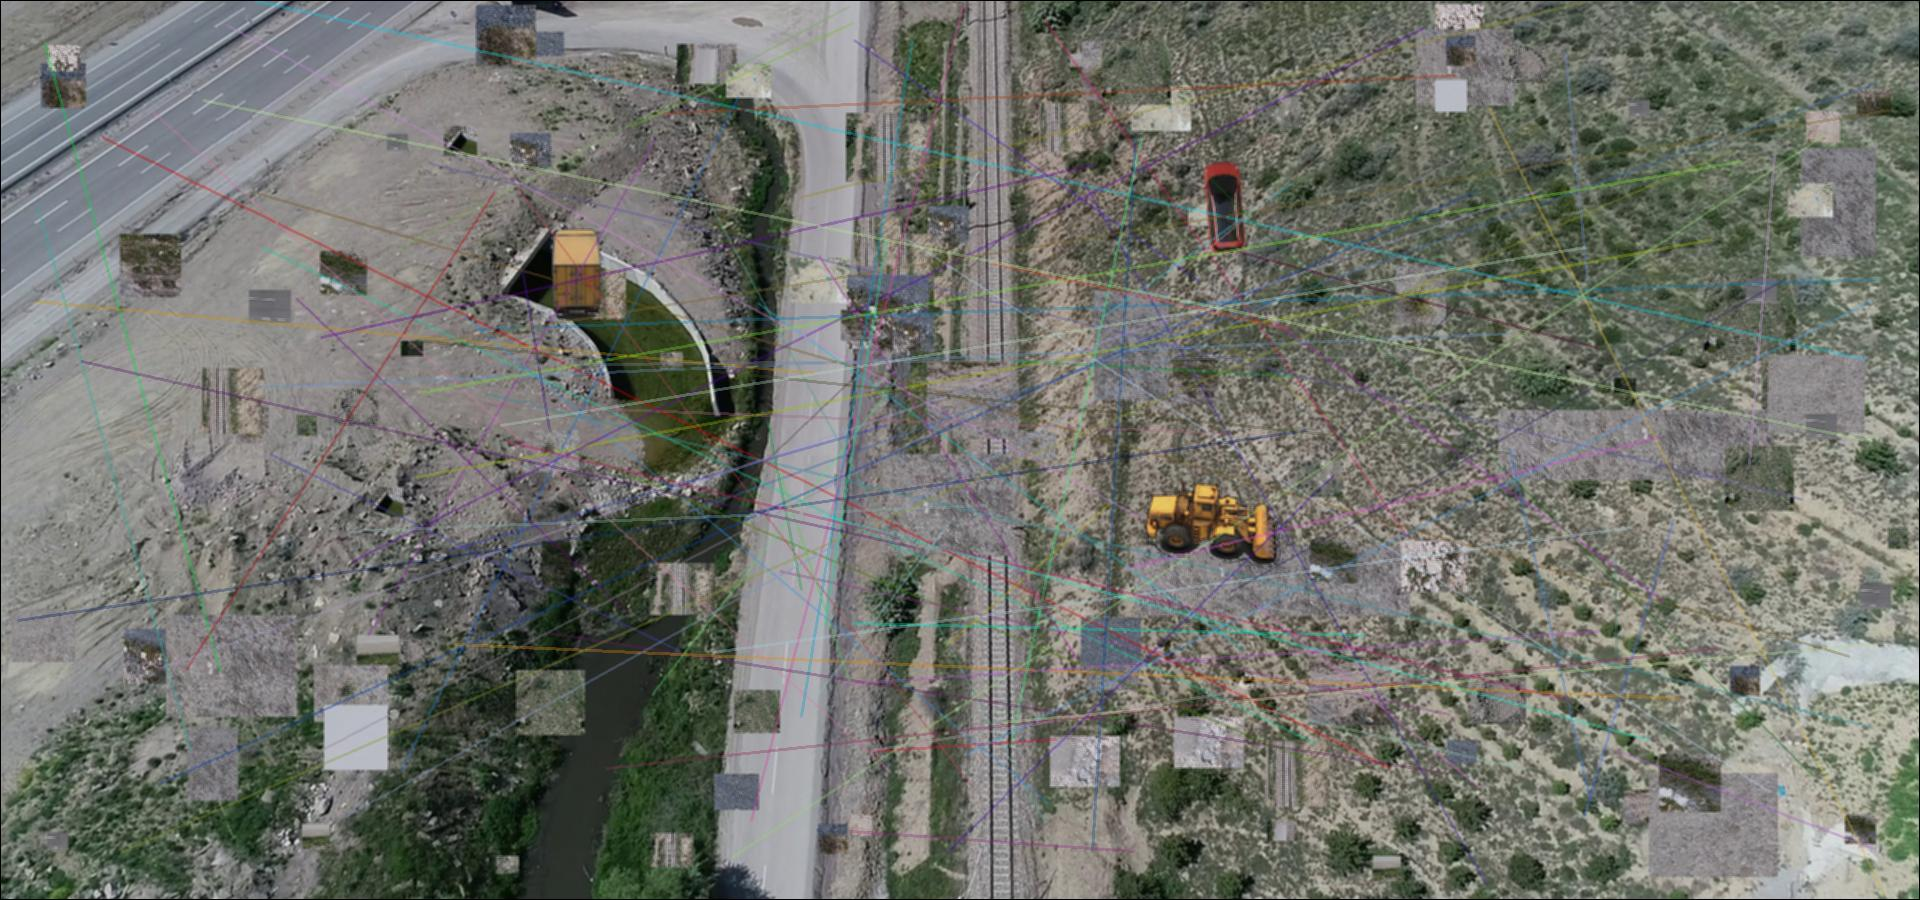arac: (1141, 478, 1281, 567), (551, 227, 605, 324), (1200, 158, 1249, 255)
